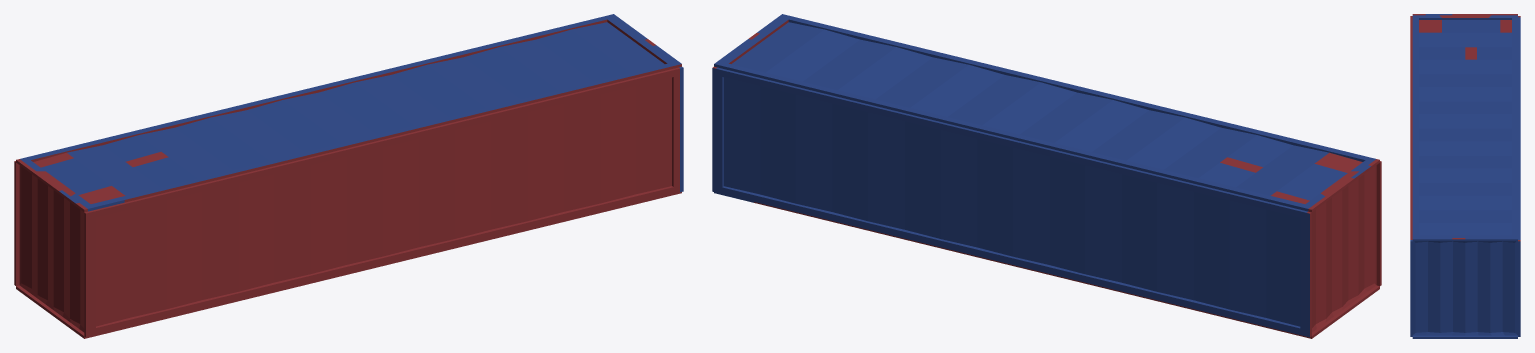
Rendered from ContainerFechado_A02.fbx.
The picture shows the model from 3 angles, left to right: view 1: azimuth 30°, elevation 25°; view 2: azimuth 150°, elevation 25°; view 3: azimuth 270°, elevation 25°; orthographic projection. The views are drawn at different scales.
Parts seen in each view (by area): view 1: Counteiner; view 2: Counteiner; view 3: Counteiner.
Part boxes in pixels (x1,y1,x2,y2): Counteiner: (14, 14, 683, 338); Counteiner: (712, 14, 1381, 338); Counteiner: (1410, 14, 1520, 338).
Bounding box in the file's own units: 681 × 141 × 141.
